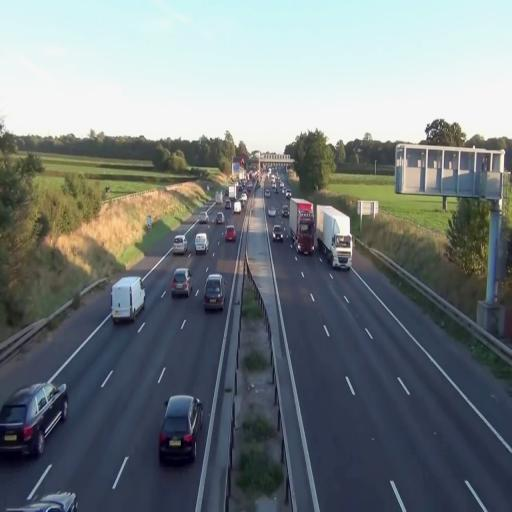vehicle: (0, 380, 69, 458), (158, 394, 204, 466), (318, 203, 352, 268), (111, 274, 145, 326), (111, 274, 145, 325), (294, 200, 316, 255), (26, 489, 78, 512), (330, 234, 352, 269), (204, 273, 224, 311), (170, 267, 191, 300), (172, 235, 187, 256), (195, 231, 208, 255), (272, 225, 284, 242), (224, 226, 236, 242)
